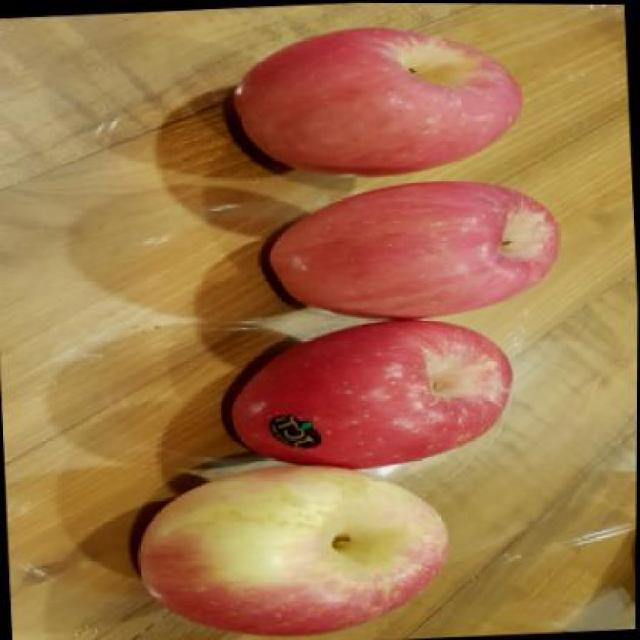Fresh Apple: (132, 473, 453, 631), (212, 28, 542, 174), (248, 176, 557, 321), (229, 316, 521, 463)
